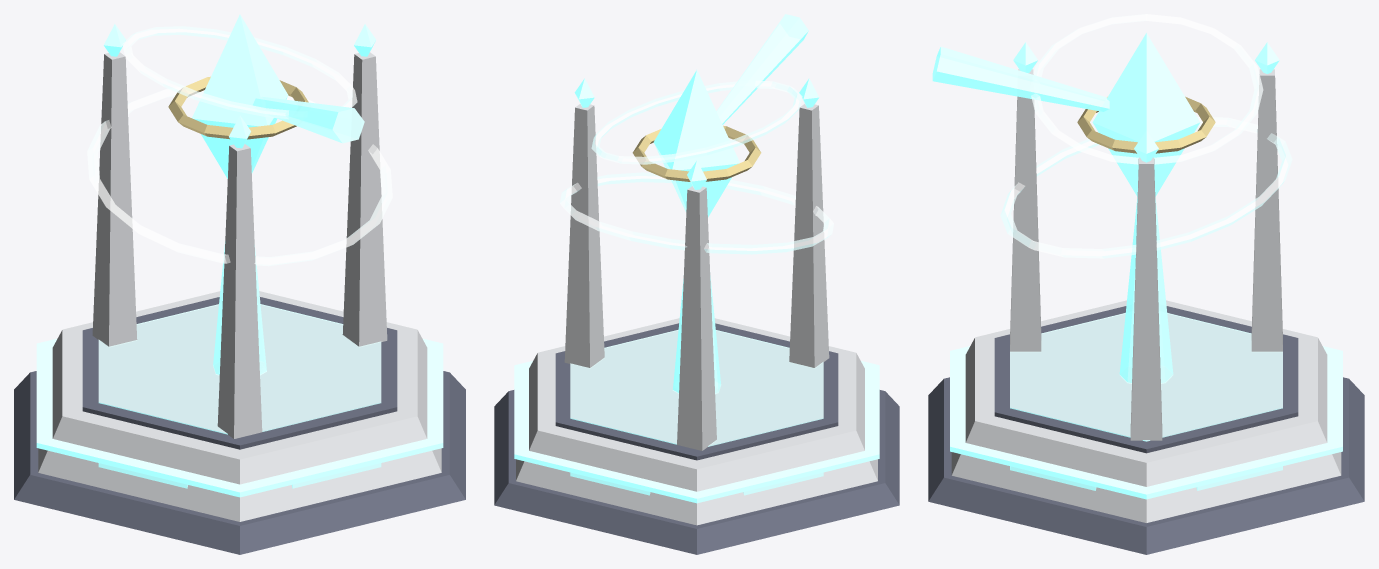
Rendered from F1_PlasmaSpringPylon.glb.
3 renders of one model, left to right at view 1: azimuth 30°, elevation 25°; view 2: azimuth 150°, elevation 25°; view 3: azimuth 270°, elevation 25°, orthographic. The views are drawn at different scales.
Visible parts, largest first — view 1: F1_PlasmaSpringPylon; view 2: F1_PlasmaSpringPylon; view 3: F1_PlasmaSpringPylon.
Boxes of the visible parts, x1,y1,x2,y2 form: F1_PlasmaSpringPylon: (14, 14, 465, 554); F1_PlasmaSpringPylon: (494, 14, 899, 554); F1_PlasmaSpringPylon: (928, 14, 1364, 554).
Size of the model in its own units: 5.6 by 5.15 by 4.85.
